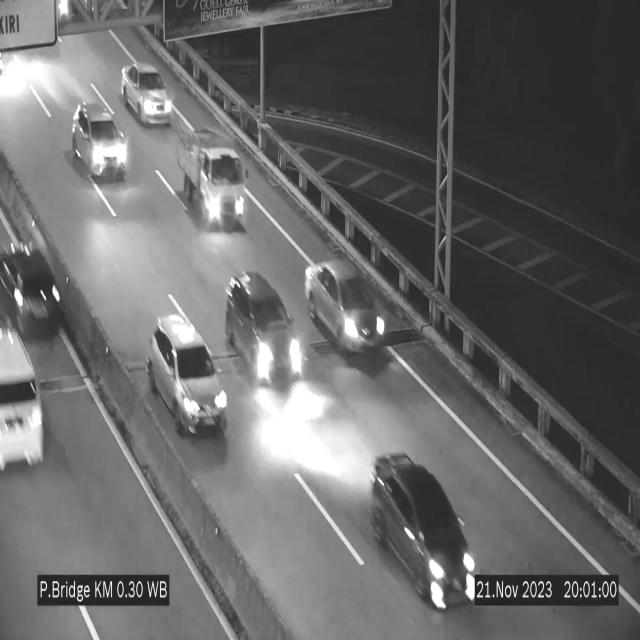Car: (366, 453, 476, 610), (0, 312, 67, 482), (222, 270, 304, 393), (146, 314, 228, 434), (304, 261, 388, 355), (0, 239, 76, 337), (73, 101, 128, 180), (120, 61, 173, 126)
Truck: (175, 124, 249, 228)
